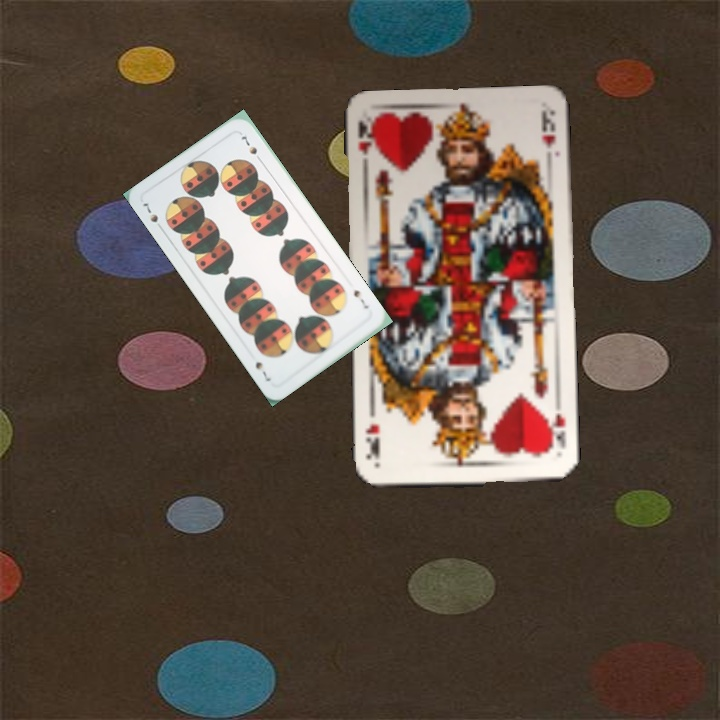HK: (353, 116, 376, 175), (544, 409, 569, 456)
S7: (139, 198, 166, 233), (349, 286, 371, 312)
